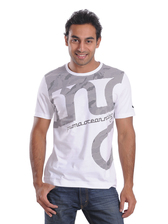clothoes: (32, 61, 136, 191)
